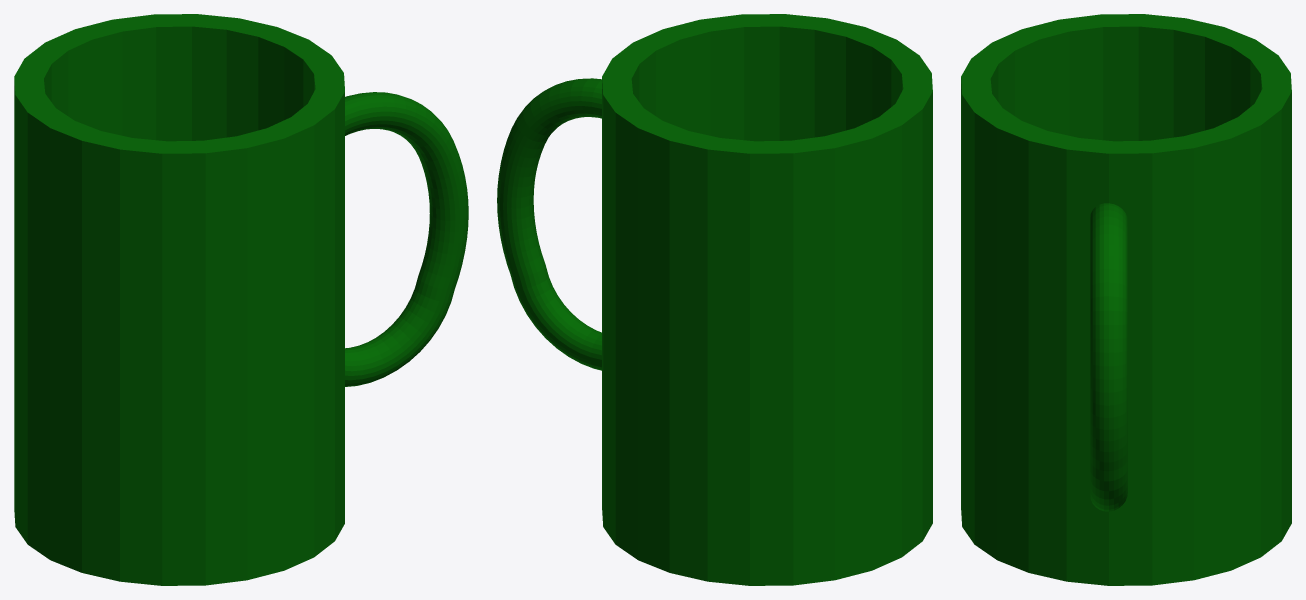
3 renders of one model, left to right at view 1: azimuth 30°, elevation 25°; view 2: azimuth 150°, elevation 25°; view 3: azimuth 270°, elevation 25°, orthographic.
Visible parts, largest first — view 1: mesh1_mesh1-geometry, mesh2_mesh2-geometry; view 2: mesh1_mesh1-geometry, mesh2_mesh2-geometry; view 3: mesh1_mesh1-geometry, mesh2_mesh2-geometry.
Part boxes in pixels (left/top/right/bottom): mesh1_mesh1-geometry: left=14, top=14, right=344, bottom=585; mesh2_mesh2-geometry: left=345, top=92, right=468, bottom=386; mesh1_mesh1-geometry: left=602, top=14, right=932, bottom=585; mesh2_mesh2-geometry: left=497, top=78, right=601, bottom=370; mesh1_mesh1-geometry: left=961, top=14, right=1291, bottom=585; mesh2_mesh2-geometry: left=1090, top=203, right=1127, bottom=511.
Bounding box in the file's own units: 0.6416 × 0.6302 × 0.4373.
